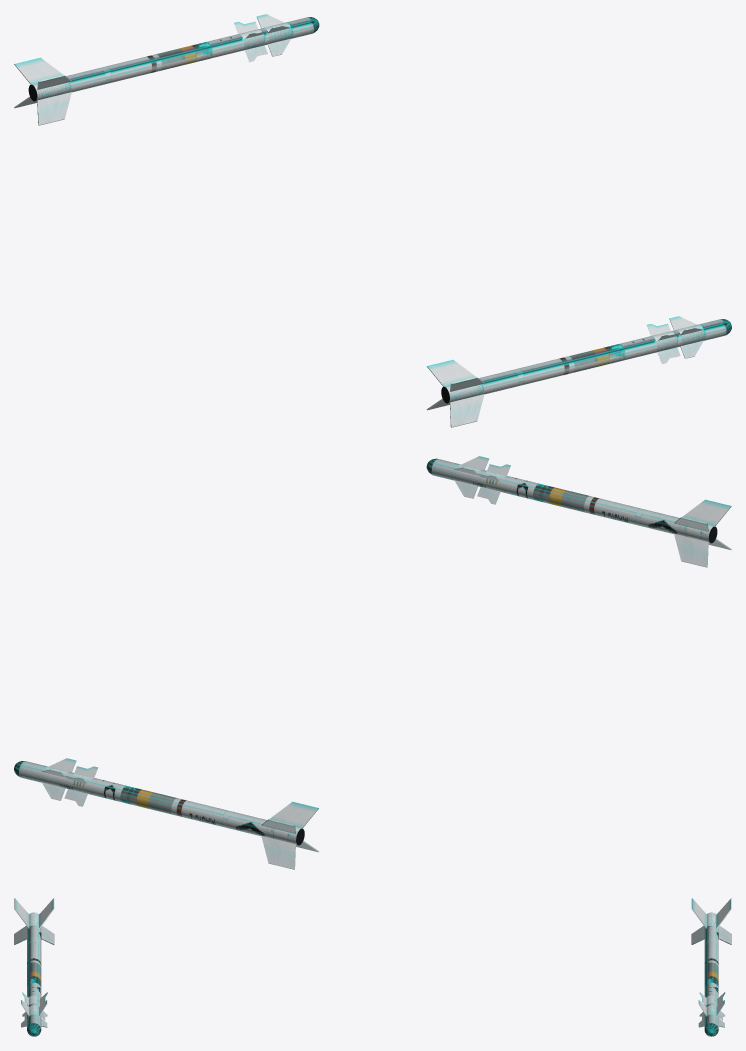
Rendered from rafaler55029.glb.
3 views of the same model, one above another, from view 1: azimuth 30°, elevation 25°; view 2: azimuth 150°, elevation 25°; view 3: azimuth 270°, elevation 25° (orthographic). The views are drawn at different scales.
Visible parts, largest first — view 1: 立方体.011, 立方体.012; view 2: 立方体.011, 立方体.012; view 3: 立方体.012, 立方体.011.
Part boxes in pixels (x1,y1,x2,y2): 立方体.011: (14, 14, 319, 125); 立方体.012: (426, 316, 731, 427); 立方体.011: (14, 758, 318, 869); 立方体.012: (426, 456, 731, 567); 立方体.012: (14, 898, 54, 1036); 立方体.011: (691, 898, 731, 1036).
Bounding box in the file's own units: 3.19 × 0.463 × 8.24.
Materials: 2 (2 with a texture image).
